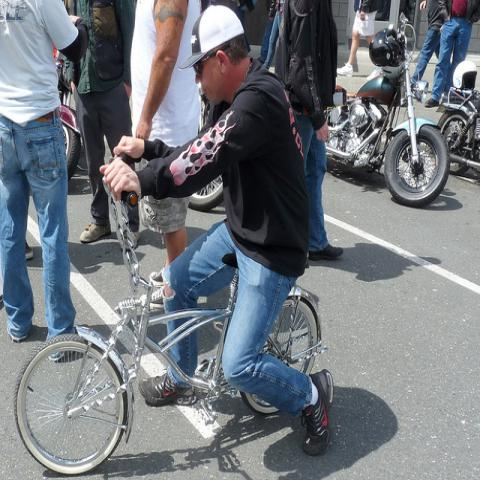motorcycle: (326, 13, 452, 206), (437, 86, 479, 175)
